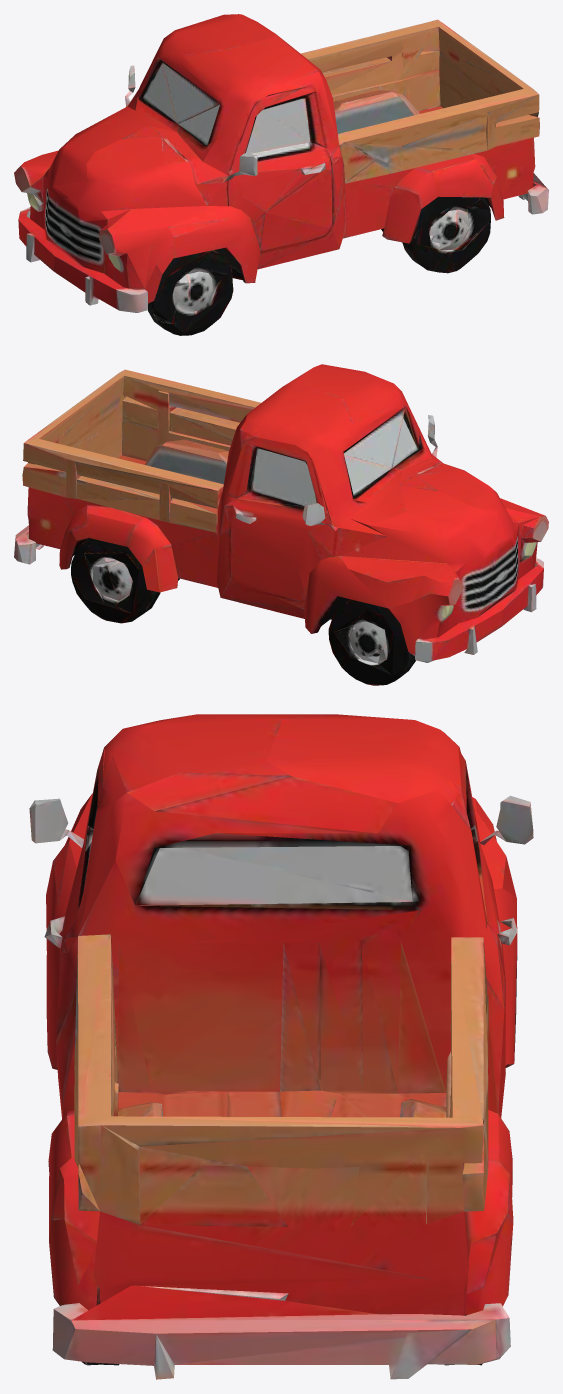
The model's file is truck.glb.
The picture shows the model from 3 angles, top to bottom: view 1: azimuth 30°, elevation 25°; view 2: azimuth 150°, elevation 25°; view 3: azimuth 270°, elevation 25°; orthographic projection. The views are drawn at different scales.
Size of the model in its own units: 1.9 by 0.9526 by 0.9346.
Materials: 1 (1 with a texture image).
